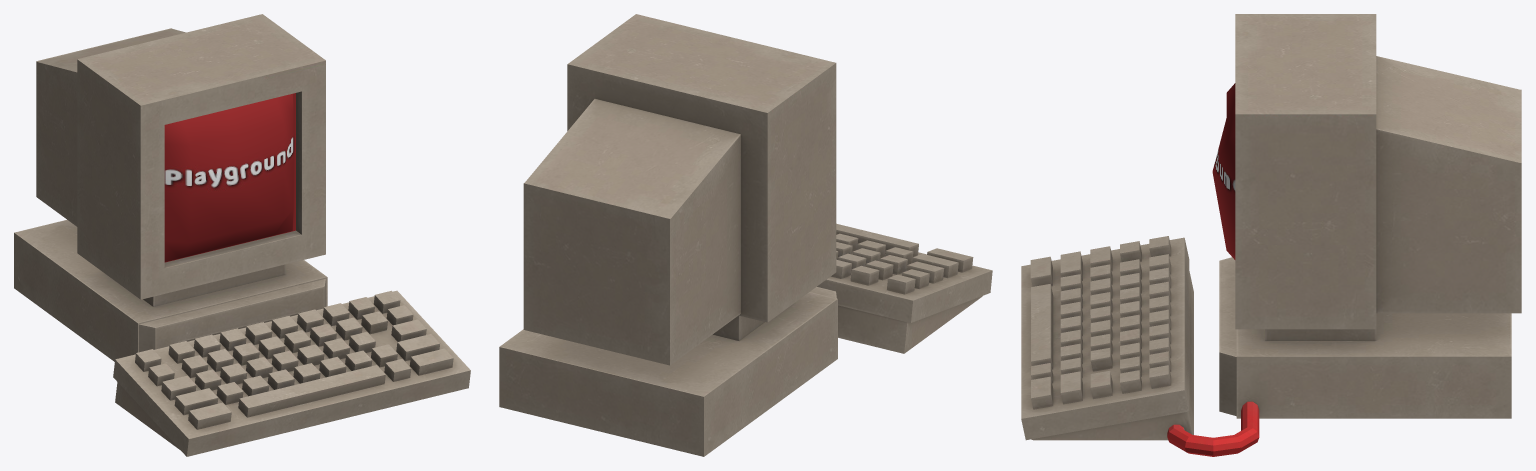
File: Computer_Playground.glb
The picture shows the model from 3 angles, left to right: view 1: azimuth 30°, elevation 25°; view 2: azimuth 150°, elevation 25°; view 3: azimuth 270°, elevation 25°; orthographic projection. The views are drawn at different scales.
Parts seen in each view (by area): view 1: Computer_Playground; view 2: Computer_Playground; view 3: Computer_Playground.
Boxes of the visible parts, bbox=[...] form: Computer_Playground: bbox=[14, 14, 470, 456]; Computer_Playground: bbox=[499, 14, 992, 456]; Computer_Playground: bbox=[1021, 14, 1521, 456].
Size of the model in its own units: 12.97 by 10.85 by 16.24.
Materials: 1 (1 with a texture image).
